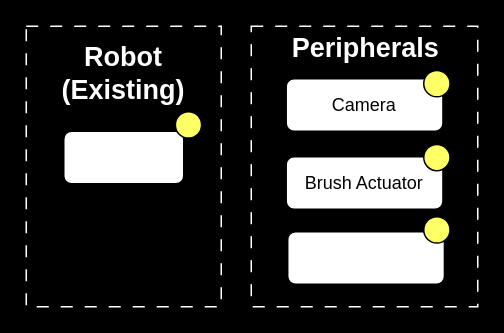
Image size: 504x333. Some labels were removed from this diagram. The shapes that lost their labels are listed below. From the top down, each one's box as (x1, y1, x2, y2) in pixels, then its label:
(62, 130, 184, 184): Power Architecture
(286, 230, 444, 284): UV-C LEDs
